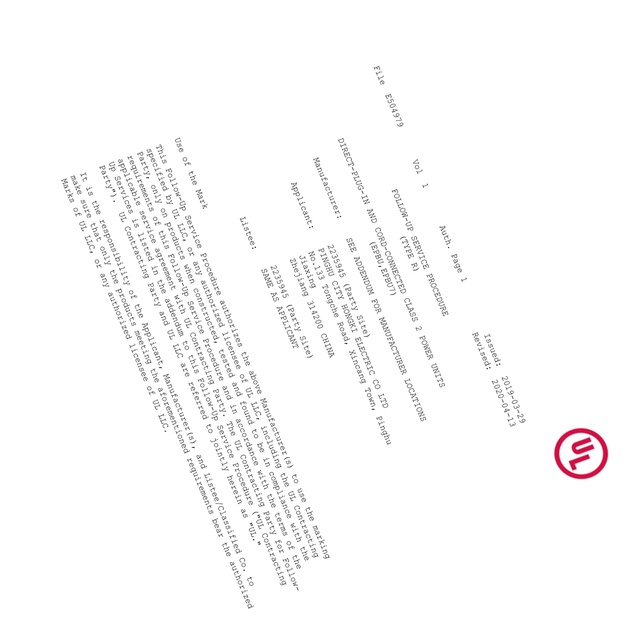ul: (554, 426, 608, 480)
